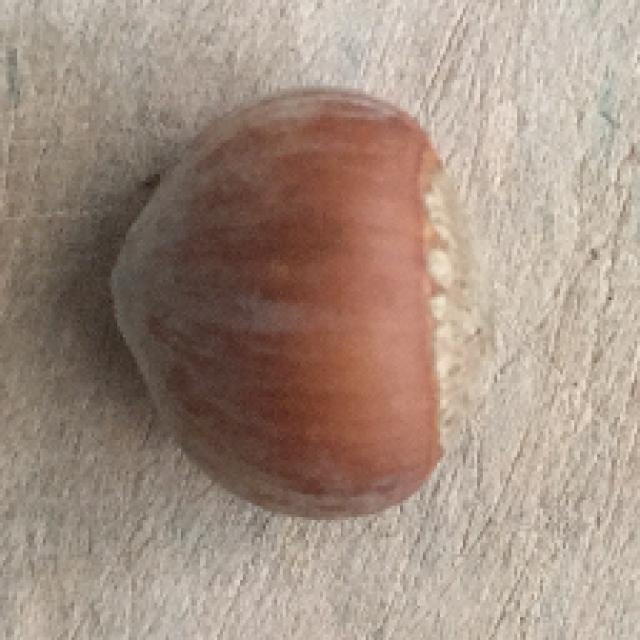qualityHazelnut: (103, 80, 463, 520)
